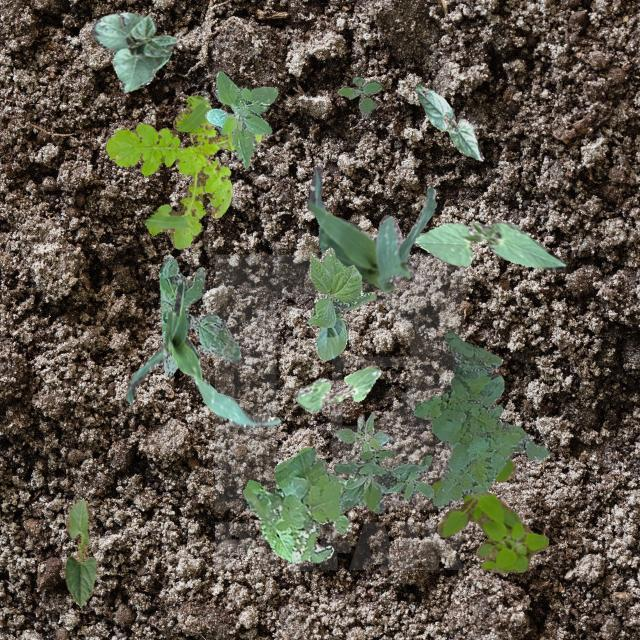crop: (124, 280, 280, 428), (306, 166, 436, 294), (306, 247, 374, 361), (412, 220, 566, 270), (204, 70, 276, 168), (92, 10, 176, 91), (414, 82, 482, 160), (294, 363, 381, 412), (63, 496, 99, 606)
weed: (105, 94, 262, 248), (412, 330, 548, 507), (242, 446, 366, 562), (430, 457, 548, 572), (158, 256, 240, 376), (332, 448, 433, 512), (334, 411, 388, 452), (336, 76, 381, 118)
